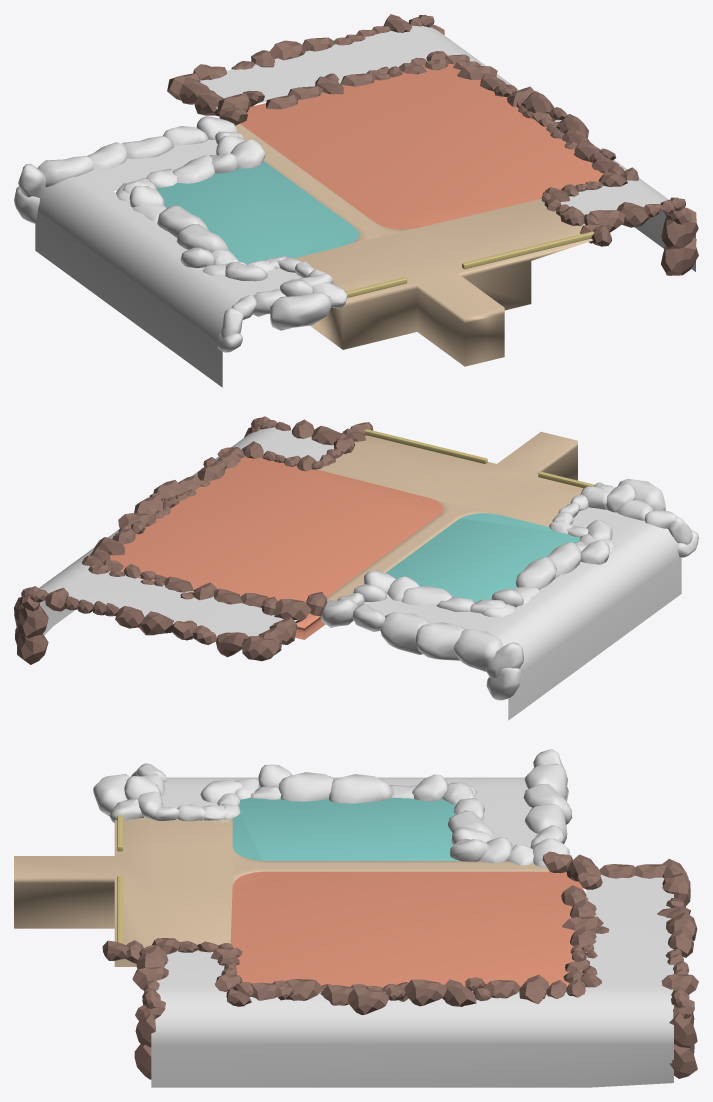
The model's file is Map_02.fbx.
The picture shows the model from 3 angles, top to bottom: view 1: azimuth 30°, elevation 25°; view 2: azimuth 150°, elevation 25°; view 3: azimuth 270°, elevation 25°; orthographic projection. The views are drawn at different scales.
Parts seen in each view (by area): view 1: Neutral_ground.001, Heaven_water.001, Hell_Lava.001; view 2: Neutral_ground.001, Heaven_water.001, Hell_Lava.001; view 3: Neutral_ground.001, Hell_Lava.001, Heaven_water.001.
Boxes of the visible parts, bbox=[...] form: Neutral_ground.001: bbox=[14, 14, 698, 366]; Heaven_water.001: bbox=[35, 139, 301, 387]; Hell_Lava.001: bbox=[200, 25, 695, 271]; Neutral_ground.001: bbox=[14, 416, 698, 700]; Heaven_water.001: bbox=[364, 507, 681, 720]; Hell_Lava.001: bbox=[39, 427, 333, 636]; Neutral_ground.001: bbox=[14, 749, 698, 1079]; Hell_Lava.001: bbox=[151, 874, 673, 1087]; Heaven_water.001: bbox=[162, 777, 537, 847].
Bounding box in the file's own units: 104 × 19.71 × 119.
